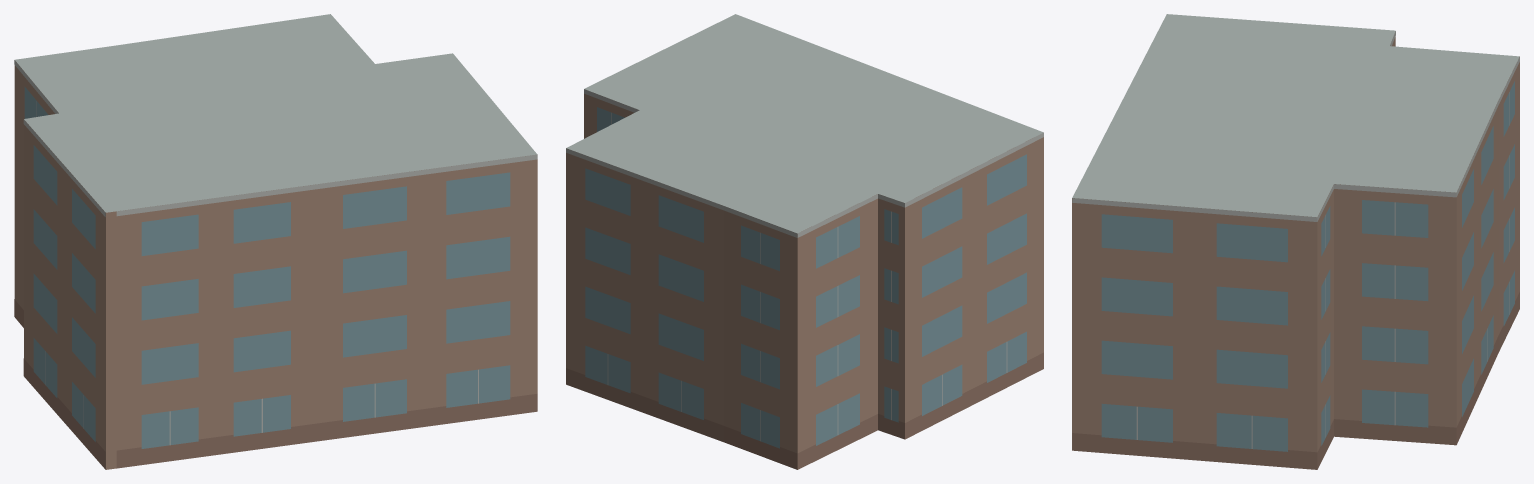
The model's file is survey-upis-32701583.glb.
3 views of the same model, side by side, from view 1: azimuth 30°, elevation 25°; view 2: azimuth 150°, elevation 25°; view 3: azimuth 270°, elevation 25° (orthographic). The views are drawn at different scales.
Parts seen in each view (by area): view 1: survey-upis-32701583.tmp; view 2: survey-upis-32701583.tmp; view 3: survey-upis-32701583.tmp.
Boxes of the visible parts, x1,y1,x2,y2 form: survey-upis-32701583.tmp: (14, 14, 537, 469); survey-upis-32701583.tmp: (566, 14, 1043, 469); survey-upis-32701583.tmp: (1072, 14, 1519, 469).
Size of the model in its own units: 21.74 by 12.6 by 20.24.
